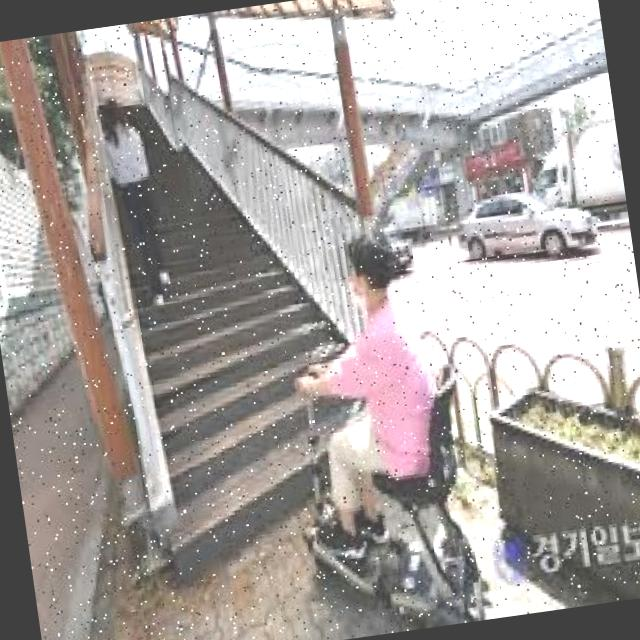Person: (263, 213, 496, 640), (99, 91, 178, 312)
